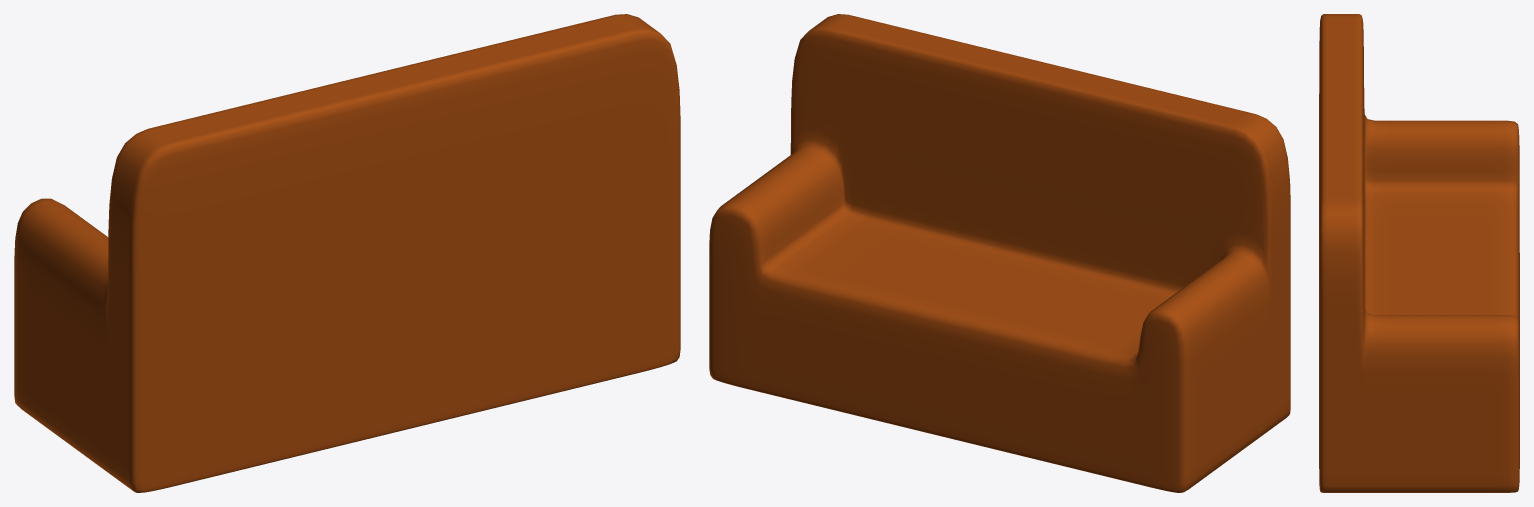
Rendered from sofa.obj.
3 renders of one model, left to right at view 1: azimuth 30°, elevation 25°; view 2: azimuth 150°, elevation 25°; view 3: azimuth 270°, elevation 25°, orthographic. The views are drawn at different scales.
Parts seen in each view (by area): view 1: sofa_Cube.008; view 2: sofa_Cube.008; view 3: sofa_Cube.008.
Boxes of the visible parts, box(x1,y1,x2,y2) form: sofa_Cube.008: box(14, 14, 680, 492); sofa_Cube.008: box(709, 14, 1290, 492); sofa_Cube.008: box(1319, 14, 1519, 492).
Size of the model in its own units: 8.34 by 4.95 by 3.25.
